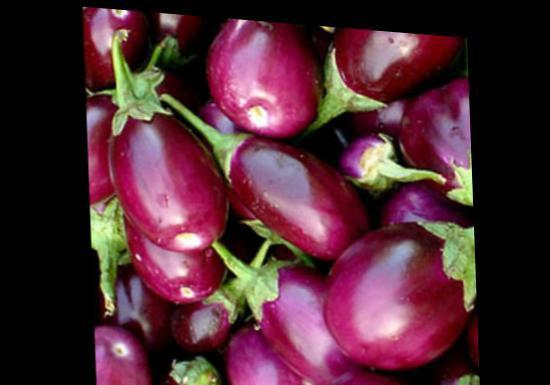eggplant: (84, 5, 480, 384), (84, 42, 239, 286), (323, 196, 478, 366), (202, 108, 352, 266), (314, 20, 471, 130), (298, 366, 445, 384)
